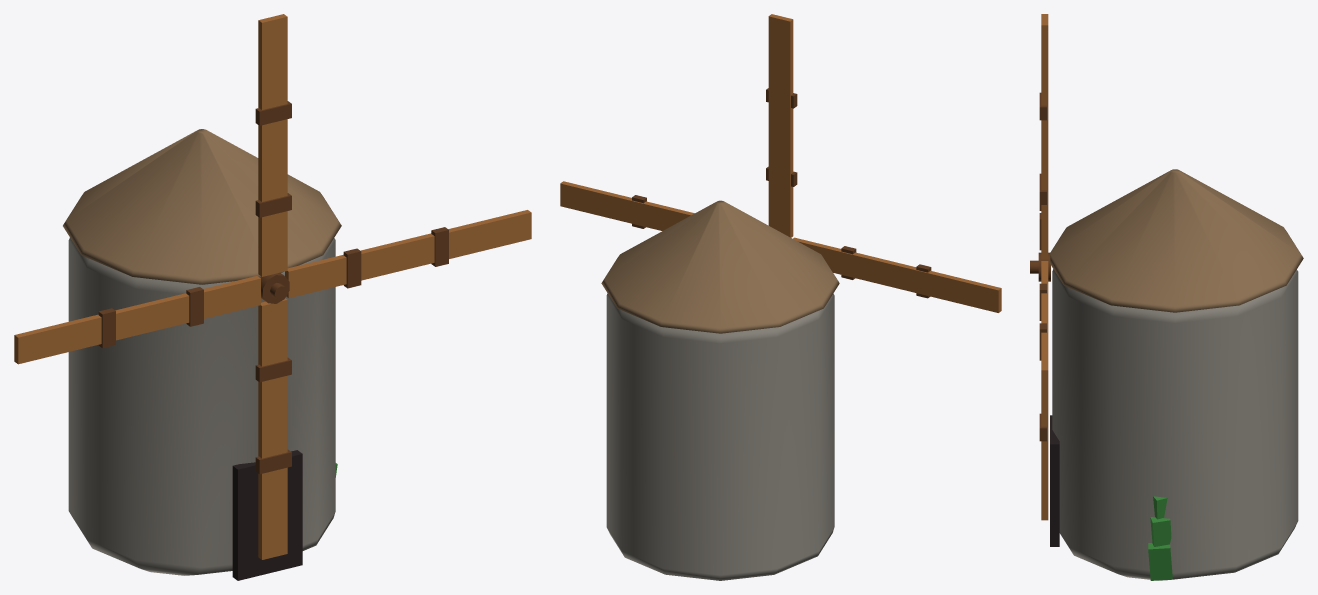
File: Buildings__windmill.glb
The picture shows the model from 3 angles, left to right: view 1: azimuth 30°, elevation 25°; view 2: azimuth 150°, elevation 25°; view 3: azimuth 270°, elevation 25°; orthographic projection. The views are drawn at different scales.
Visible parts, largest first — view 1: windmill_mesh; view 2: windmill_mesh; view 3: windmill_mesh.
Part boxes in pixels (x1,y1,x2,y2): windmill_mesh: [14, 14, 531, 580]; windmill_mesh: [560, 14, 1001, 580]; windmill_mesh: [1030, 14, 1303, 580].
Size of the model in its own units: 2.22 by 2.3 by 1.11.
